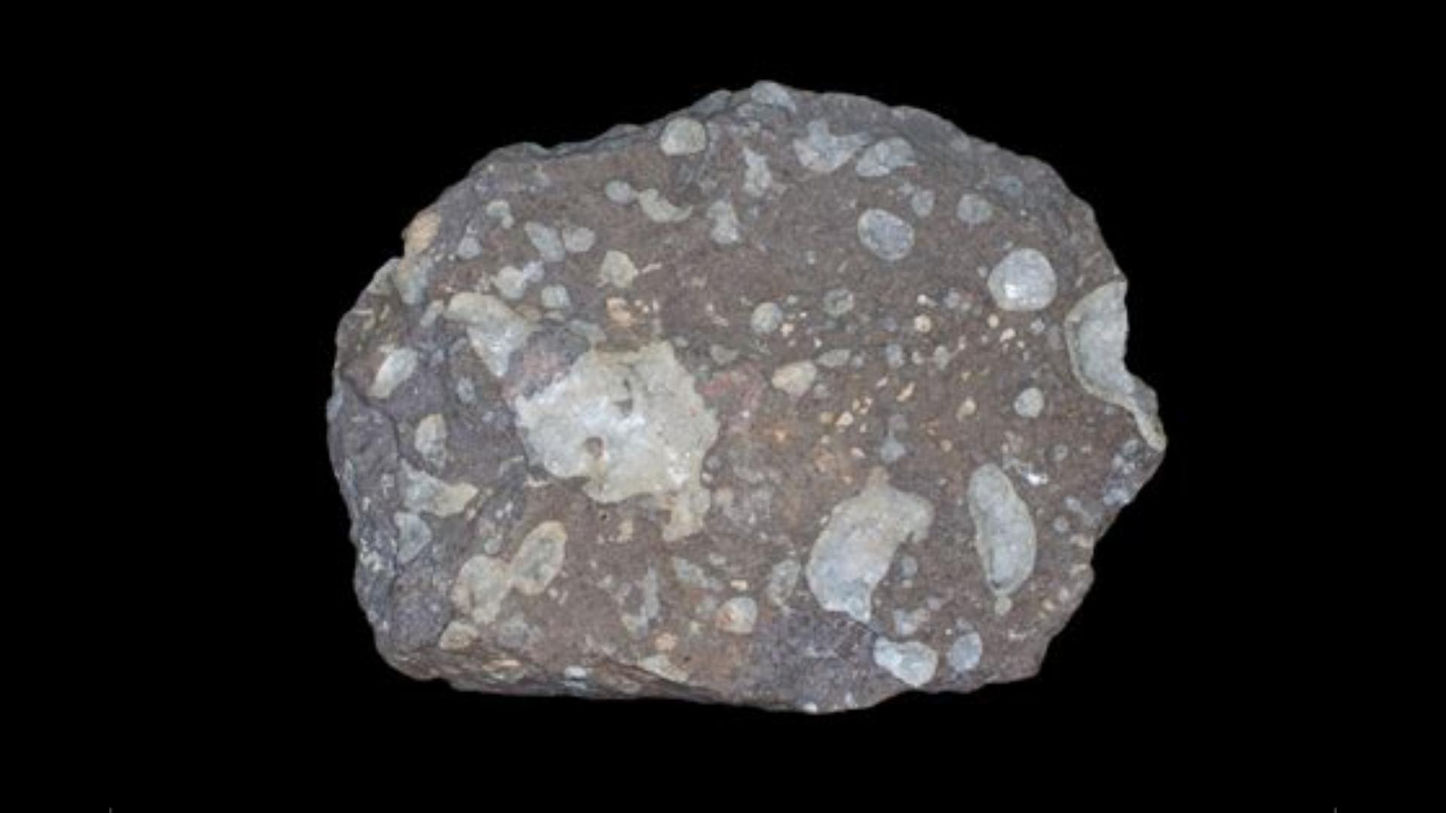rock: (329, 83, 1161, 712)
